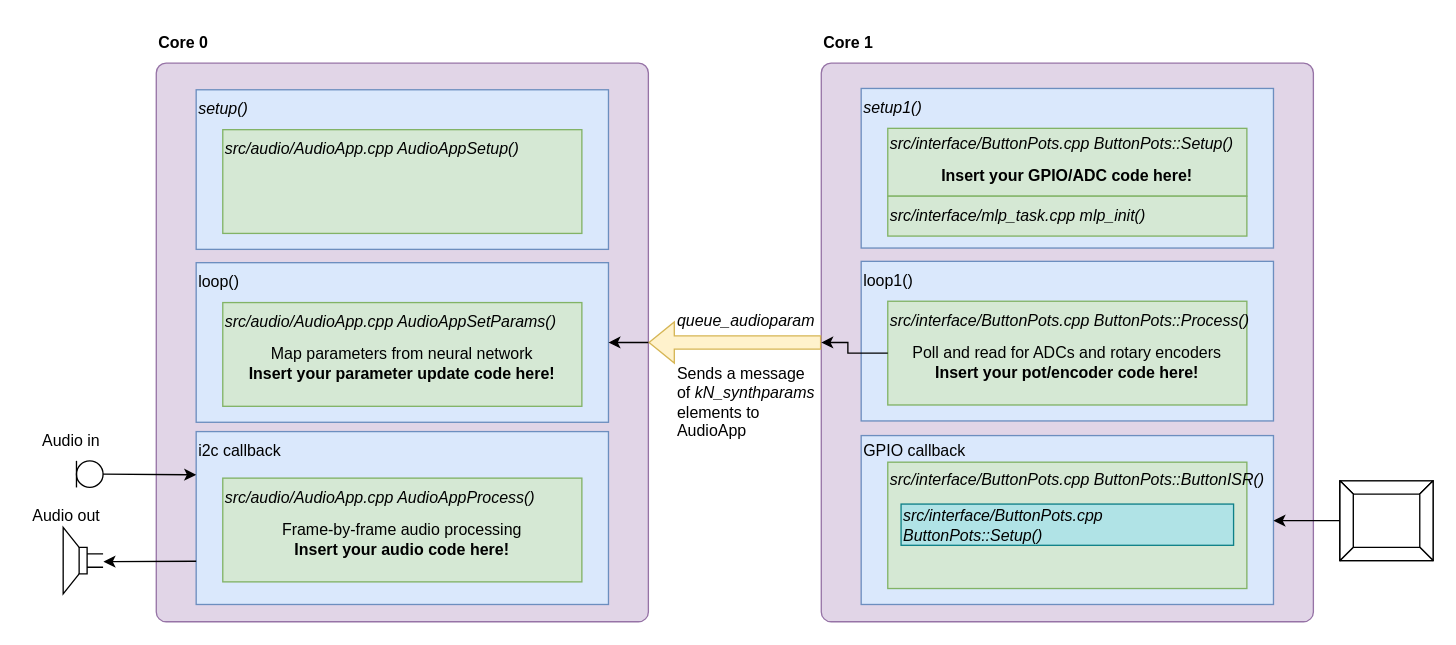
Some shapes in this 1456 by 645 pixel diagram are drawn without their labels. The box of each missing label's shape, as (x1, y1, x2, y2) in pixels:
Buttons: (1339, 479, 1433, 561)
Initialise DSP/audio app Insert your audio setup code here!: (221, 128, 582, 233)
Insert your GPIO (button/toggle) code here!: (886, 461, 1247, 589)
